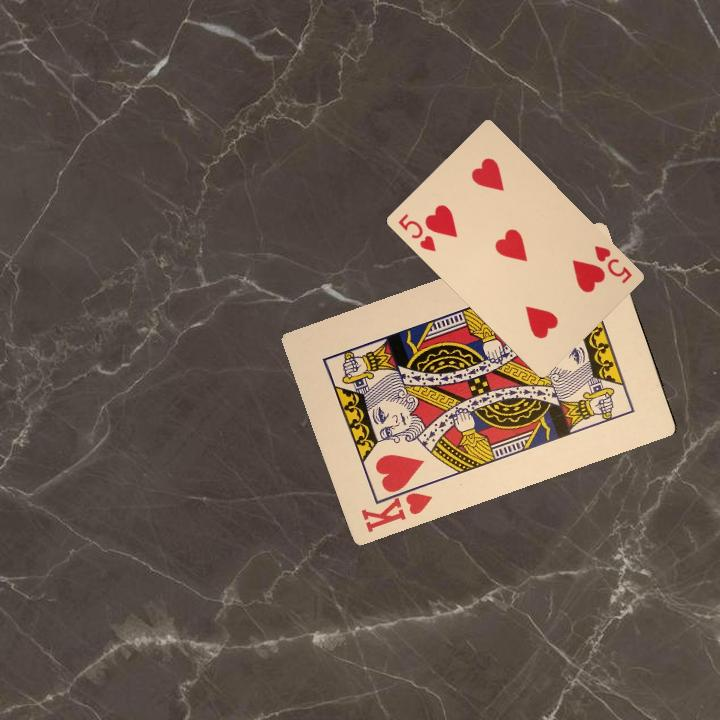5h: (590, 241, 634, 286), (394, 210, 438, 254)
Kh: (357, 478, 435, 535)
